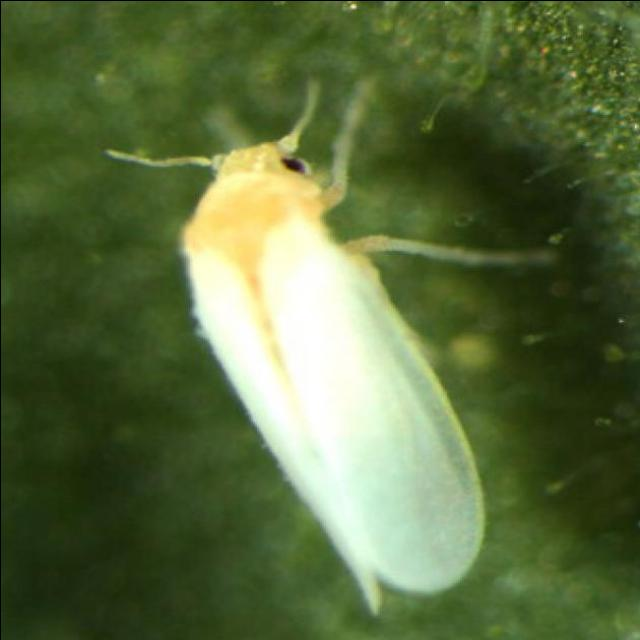Whitefly: (80, 72, 585, 638)
